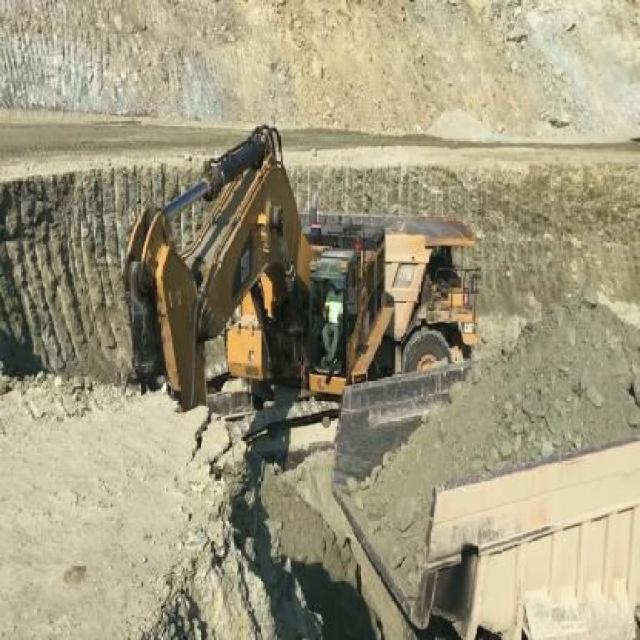dump_truck: (328, 346, 640, 640), (374, 213, 478, 369)
excavator: (119, 128, 392, 410)
